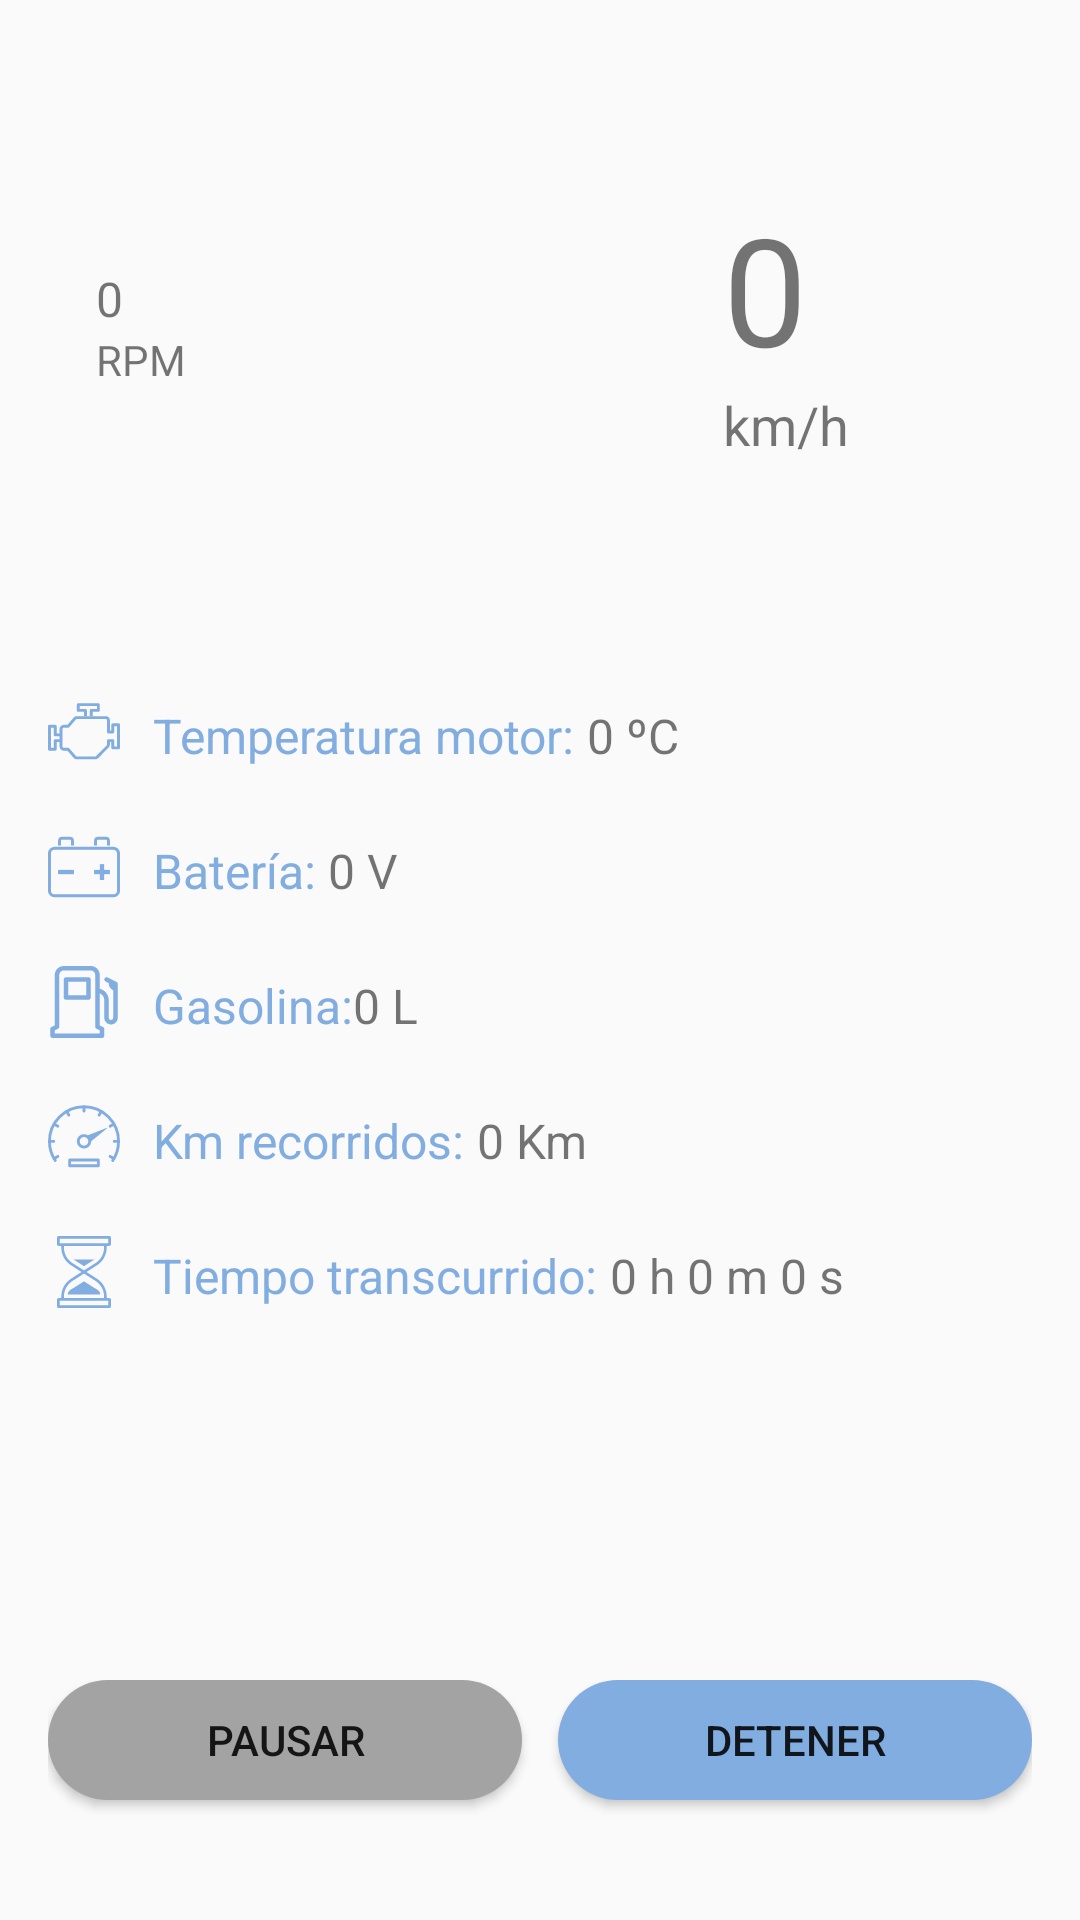

Locate icon controls on the screen. Image size 1080 x 1920, boxes as (x1, y1, x2, y2).
battery: (48, 836, 120, 898)
dashboard: (48, 1105, 120, 1168)
engine: (48, 703, 120, 760)
gasoline pump: (50, 966, 118, 1038)
hourglass: (57, 1236, 111, 1308)
